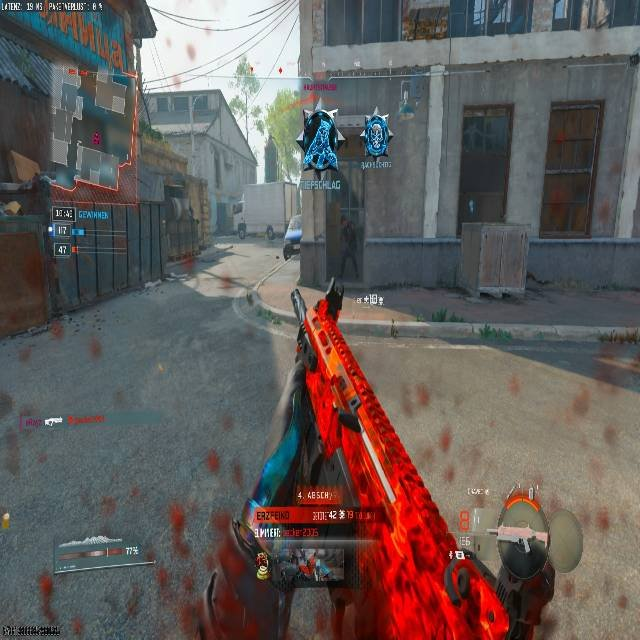player: (297, 104, 341, 176), (361, 109, 391, 163), (389, 319, 399, 337), (265, 223, 274, 241)
